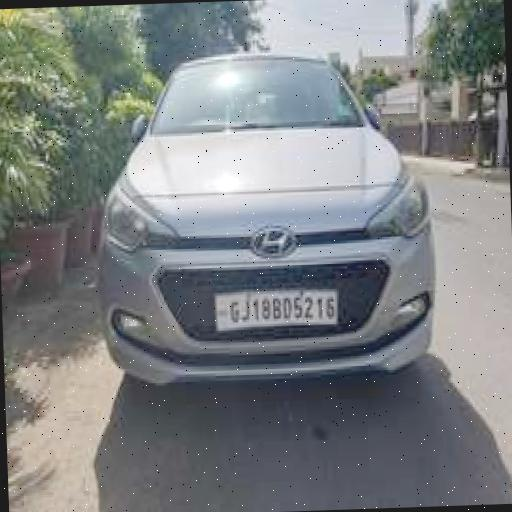license_plate`: (212, 286, 334, 325)
